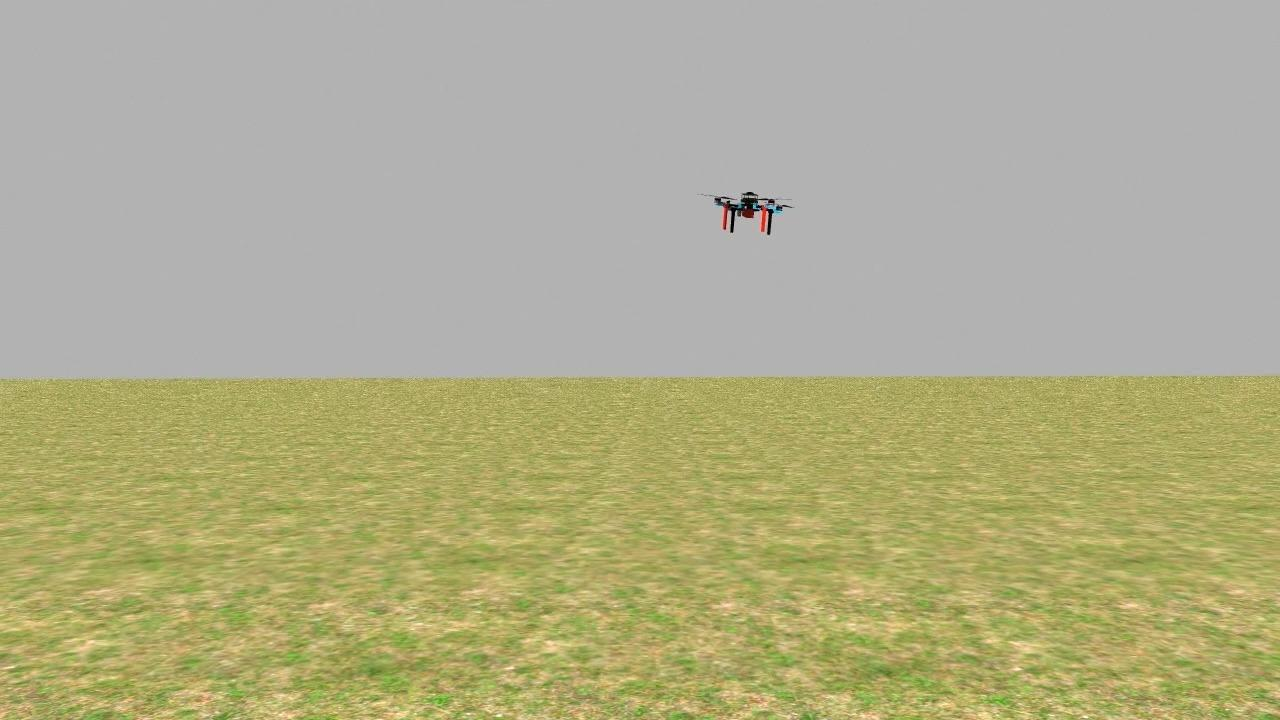UAV: (709, 182, 792, 233)
